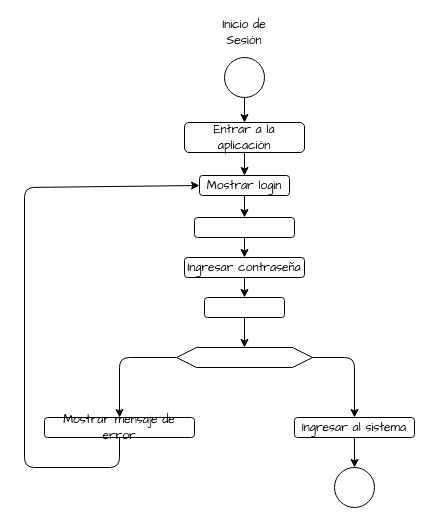
The diagram is 432 pixels wide and 525 high, and some of its shapes have lost their labels. Each missing label, with the box of its shape:
Ingresar usuario: (194, 216, 294, 238)
Validar datos: (204, 296, 284, 318)
¿Son correctos?: (176, 346, 312, 368)
